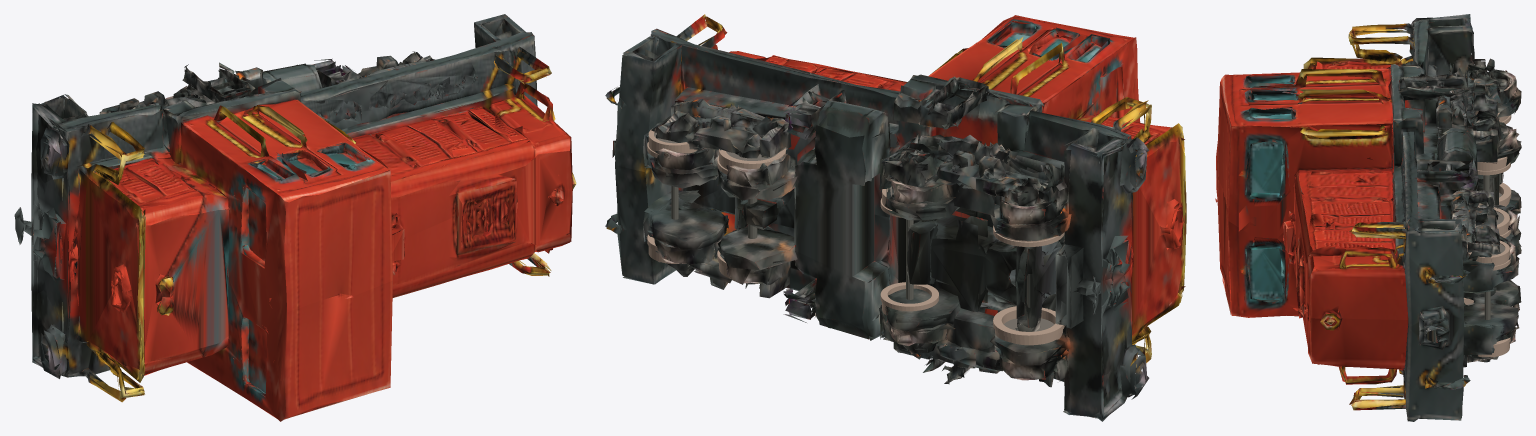
File: mk48_body_r025.glb
3 views of the same model, side by side, from view 1: azimuth 30°, elevation 25°; view 2: azimuth 150°, elevation 25°; view 3: azimuth 270°, elevation 25° (orthographic). The views are drawn at different scales.
Parts seen in each view (by area): view 1: part_body.001; view 2: part_body.001, wheels_body.001; view 3: part_body.001, wheels_body.001.
Boxes of the visible parts, x1,y1,x2,y2 form: part_body.001: (14, 14, 576, 421); part_body.001: (605, 14, 1186, 421); wheels_body.001: (647, 125, 1064, 345); part_body.001: (1215, 14, 1521, 421); wheels_body.001: (1463, 112, 1511, 357).
Size of the model in its own units: 5.82 by 2.97 by 3.51.
Materials: 4 (1 with a texture image).
